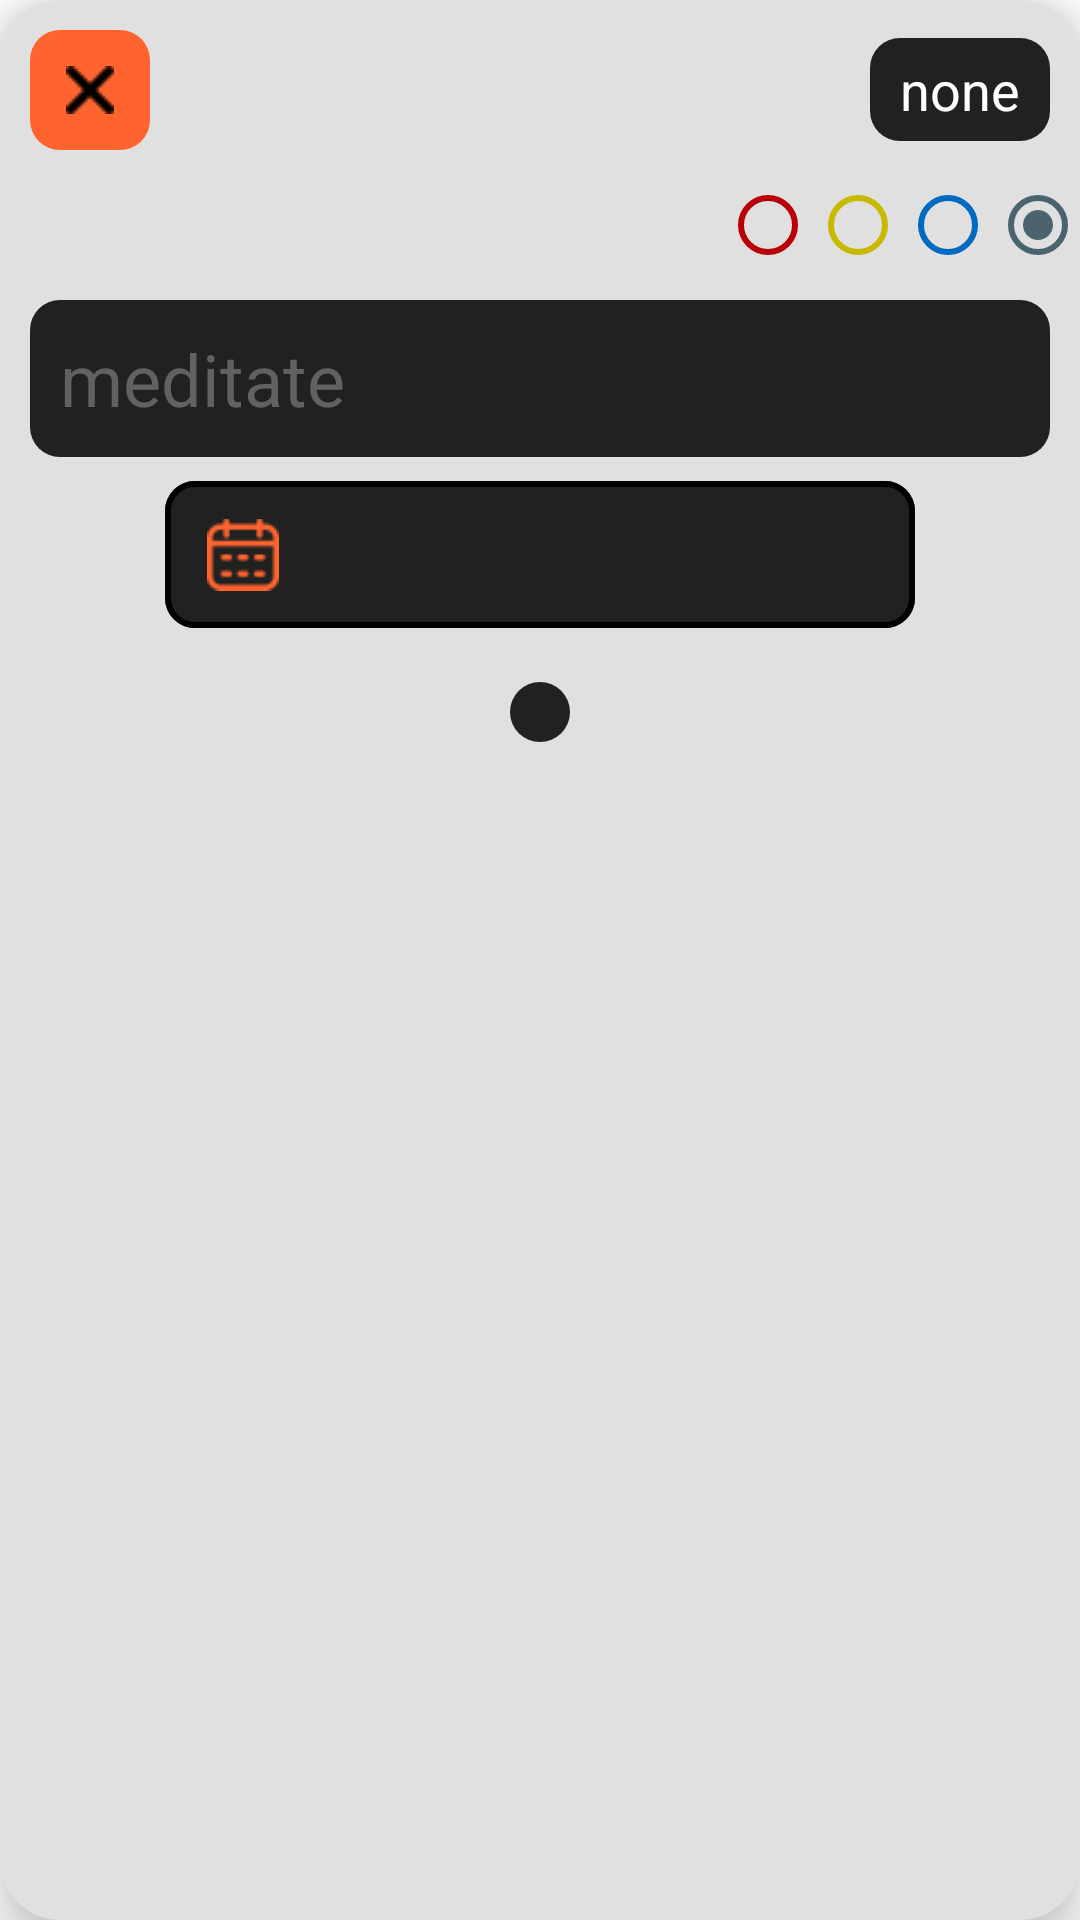

Icon bounding boxes for this 1080px×1920px phone screenshot, format (x1, y1, x2, y2):
close: (30, 30, 150, 150)
